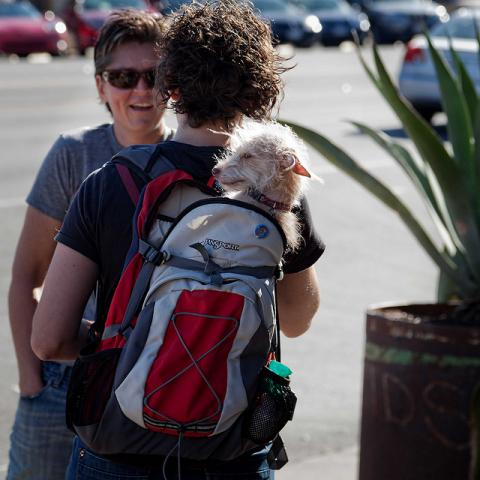car: (400, 10, 479, 118), (62, 1, 164, 56), (284, 0, 371, 48), (0, 0, 67, 58), (363, 1, 445, 45), (257, 0, 324, 48)
